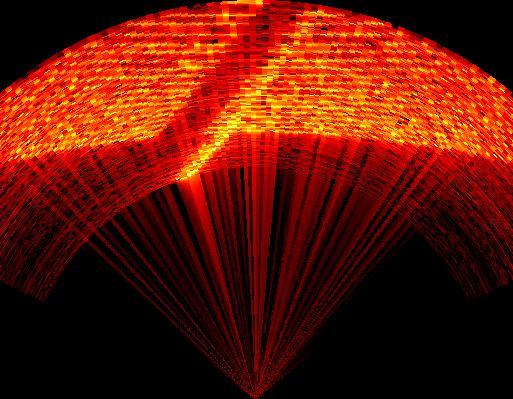pipe: (132, 1, 331, 183)
